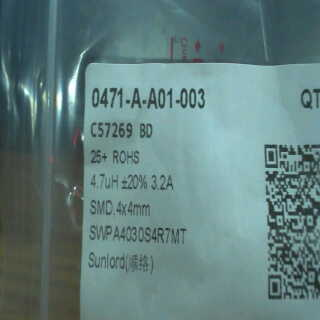4.7uH: (87, 169, 121, 191)
